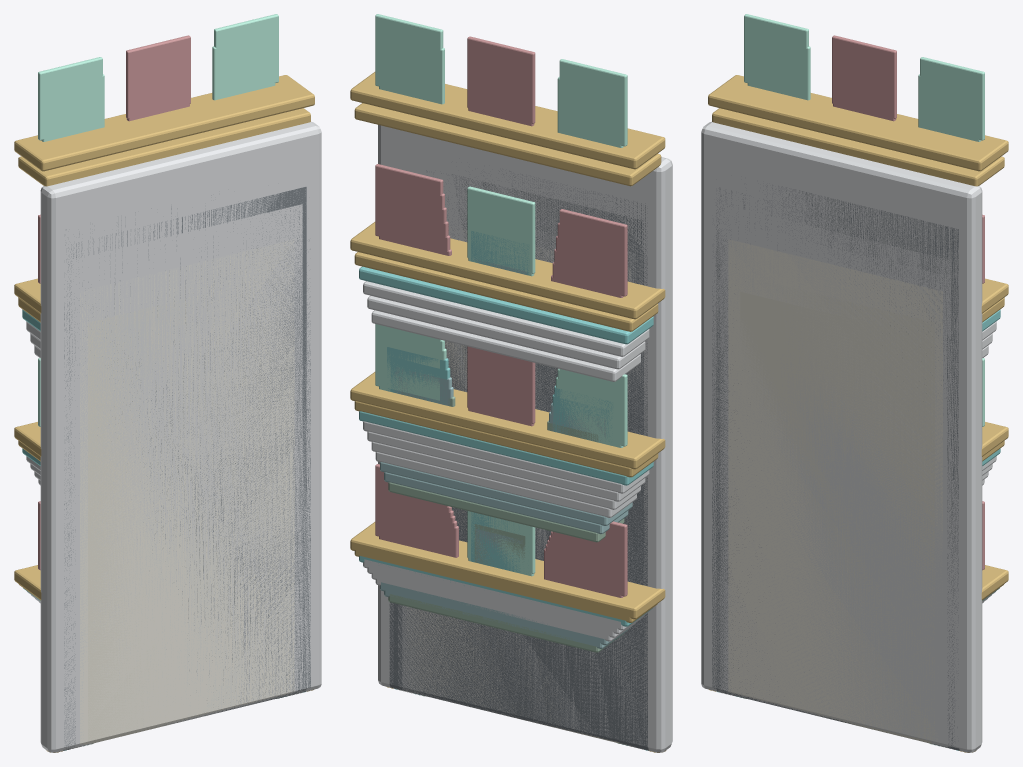
The model's file is Gear08.fbx.
3 views of the same model, side by side, from view 1: azimuth 30°, elevation 25°; view 2: azimuth 150°, elevation 25°; view 3: azimuth 330°, elevation 25° (orthographic). The views are drawn at different scales.
Parts seen in each view (by area): view 1: Gear08_V10_Platinum, Gear08_V4_Linen, Gear08_V6_Platinum, Gear08_V3_Linen, Gear08_V9_Platinum, Gear08_V2_Ivory, Gear08_V5_Platinum, Gear08_V7_Graphite, Gear08_V10_Gold, Gear08_V10_Glow, Gear08_V8_Graphite, Gear08_V9_Gold (+4 smaller); view 2: Gear08_V10_Platinum, Gear08_V7_Graphite, Gear08_V10_Gold, Gear08_V10_Glow, Gear08_V10_Rose, Gear08_V9_Gold, Gear08_V8_Graphite, Gear08_V5_Platinum, Gear08_V6_Platinum, Gear08_V7_Platinum, Gear08_V8_Aqua, Gear08_V8_Rose (+22 smaller); view 3: Gear08_V10_Platinum, Gear08_V4_Linen, Gear08_V5_Platinum, Gear08_V1_Ivory, Gear08_V3_Linen, Gear08_V9_Platinum, Gear08_V2_Ivory, Gear08_V10_Gold, Gear08_V8_Graphite, Gear08_V10_Glow, Gear08_V6_Platinum, Gear08_V9_Gold (+4 smaller).
Part boxes in pixels (<box>): Gear08_V10_Platinum: <box>40,121,321,752</box>; Gear08_V4_Linen: <box>80,239,294,744</box>; Gear08_V6_Platinum: <box>30,204,302,748</box>; Gear08_V3_Linen: <box>83,286,290,744</box>; Gear08_V9_Platinum: <box>60,171,314,748</box>; Gear08_V2_Ivory: <box>88,299,199,742</box>; Gear08_V5_Platinum: <box>34,226,298,747</box>; Gear08_V7_Graphite: <box>68,187,306,723</box>; Gear08_V10_Gold: <box>14,75,314,752</box>; Gear08_V10_Glow: <box>38,14,278,426</box>; Gear08_V8_Graphite: <box>63,195,310,750</box>; Gear08_V9_Gold: <box>18,108,310,751</box>; Gear08_V10_Platinum: <box>378,125,672,752</box>; Gear08_V7_Graphite: <box>393,170,644,749</box>; Gear08_V10_Gold: <box>350,72,666,752</box>; Gear08_V10_Glow: <box>375,14,627,573</box>; Gear08_V10_Rose: <box>375,36,627,596</box>; Gear08_V9_Gold: <box>354,103,661,751</box>; Gear08_V8_Graphite: <box>389,171,648,750</box>; Gear08_V5_Platinum: <box>371,230,640,747</box>; Gear08_V6_Platinum: <box>367,238,645,702</box>; Gear08_V7_Platinum: <box>363,281,649,630</box>; Gear08_V8_Aqua: <box>359,266,653,750</box>; Gear08_V8_Rose: <box>383,196,616,596</box>; Gear08_V10_Platinum: <box>701,121,982,752</box>; Gear08_V4_Linen: <box>728,239,942,730</box>; Gear08_V5_Platinum: <box>724,222,988,747</box>; Gear08_V1_Ivory: <box>740,291,931,743</box>; Gear08_V3_Linen: <box>732,282,938,740</box>; Gear08_V9_Platinum: <box>708,162,962,748</box>; Gear08_V2_Ivory: <box>739,282,934,741</box>; Gear08_V10_Gold: <box>708,75,1008,752</box>; Gear08_V8_Graphite: <box>712,185,959,750</box>; Gear08_V10_Glow: <box>744,14,984,426</box>; Gear08_V6_Platinum: <box>720,204,992,748</box>; Gear08_V9_Gold: <box>712,108,1004,751</box>.
Size of the model in its own units: 76.16 by 175 by 18.
